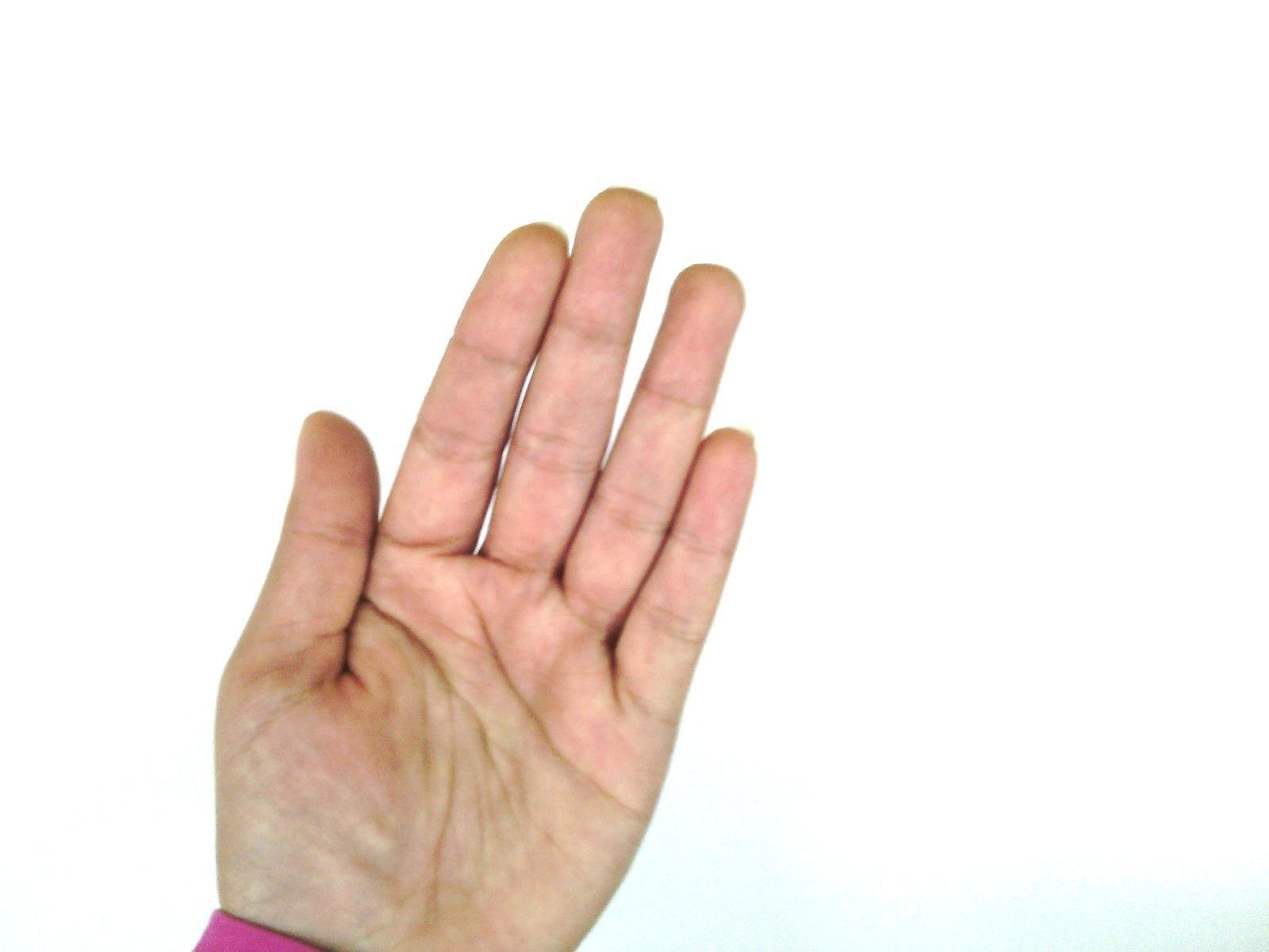open_palm: (202, 185, 761, 951)
